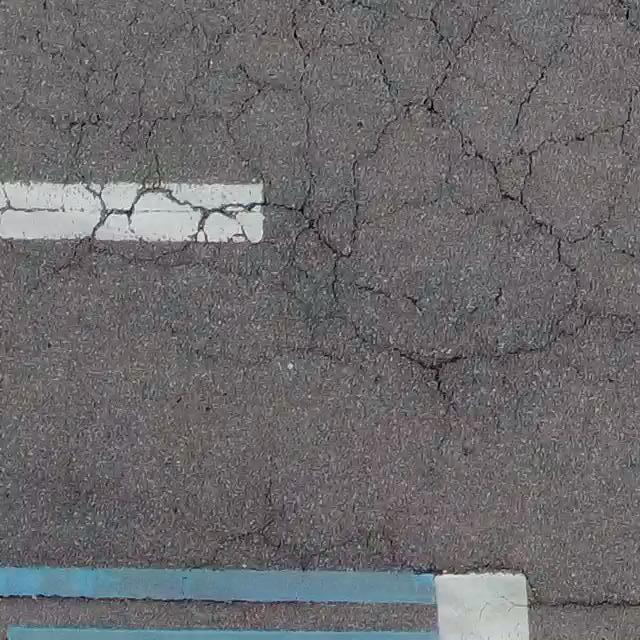GRIETA: (396, 561, 534, 592), (209, 530, 308, 571), (532, 594, 639, 606)
PIEL DE COCODRILO: (0, 0, 639, 418)
